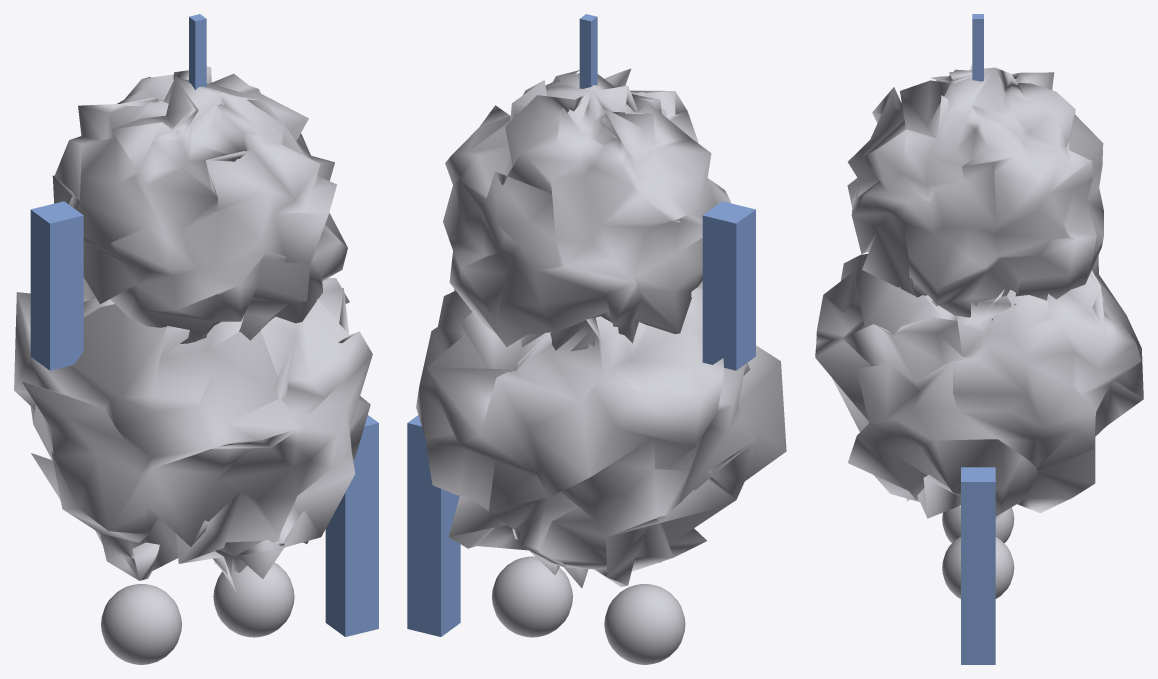
The model's file is clay_breakdance_robot.glb.
3 renders of one model, left to right at view 1: azimuth 30°, elevation 25°; view 2: azimuth 150°, elevation 25°; view 3: azimuth 270°, elevation 25°, orthographic. The views are drawn at different scales.
Parts seen in each view (by area): view 1: antenna; view 2: antenna; view 3: antenna.
Boxes of the visible parts, x1,y1,x2,y2 form: antenna: (14, 14, 378, 664); antenna: (407, 14, 786, 664); antenna: (815, 14, 1143, 664).
Bounding box in the file's own units: 1.18 × 2.19 × 1.14.
